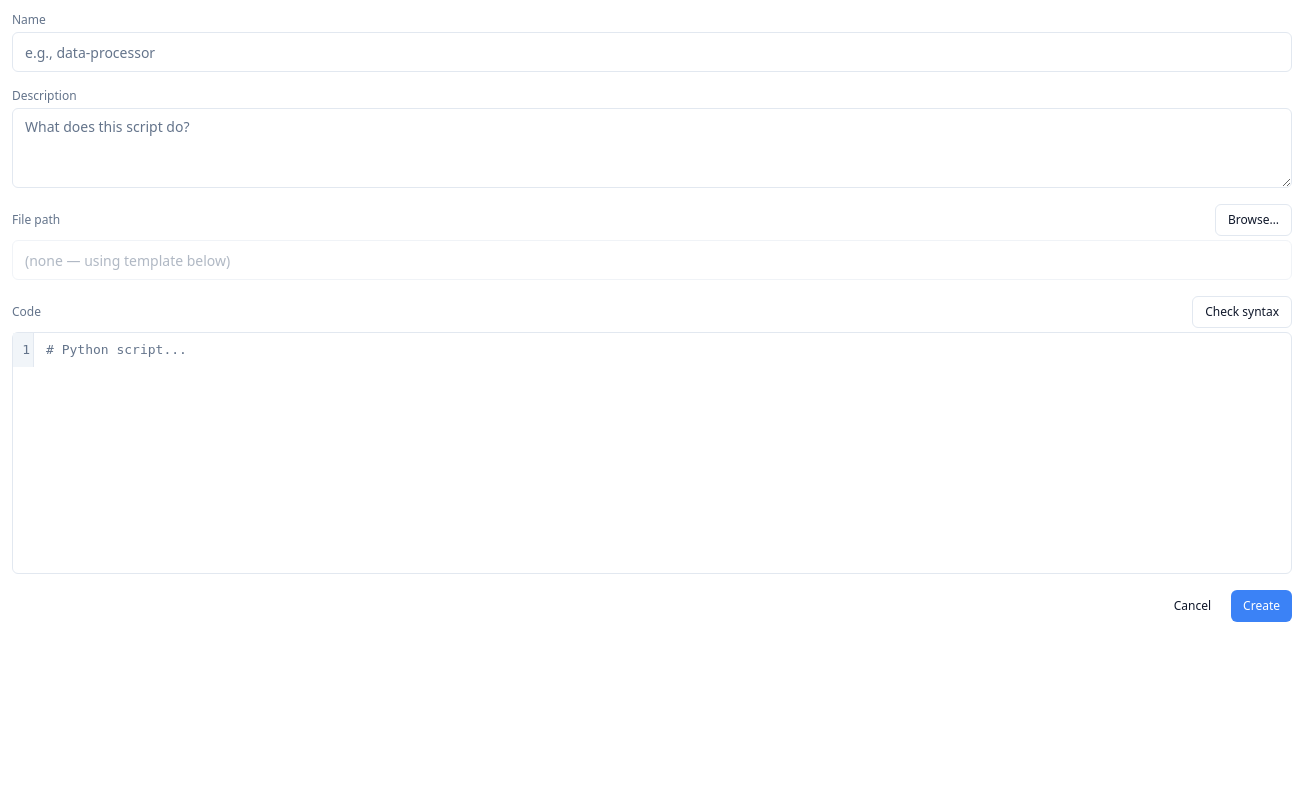
Test: PythonScriptForm — Check Syntax › shows line/col error inline when validation fails
Click the button "Check syntax".
click(1242, 312)  # box [1192, 296, 1292, 328]
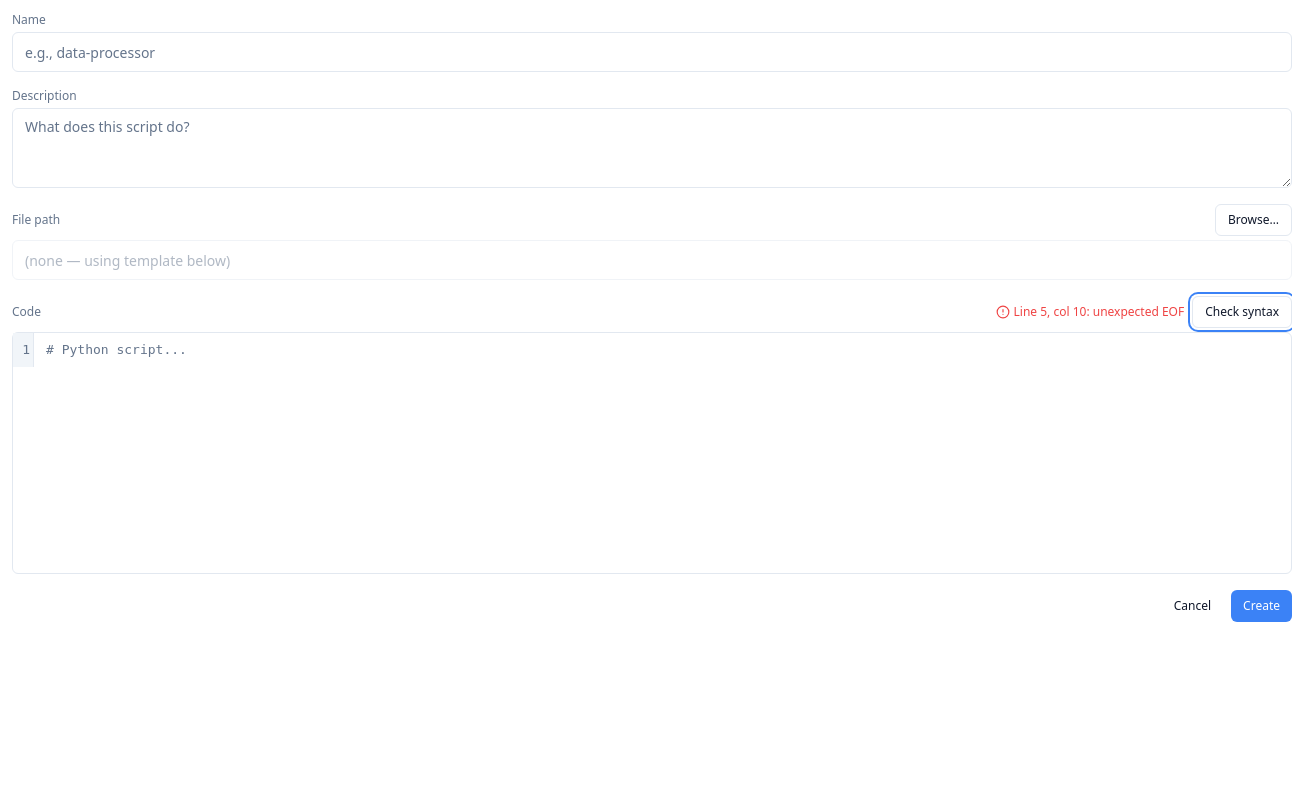
Check: the text "Line 5, col 10: unexpected EOF" is shown, box [996, 304, 1184, 320]
